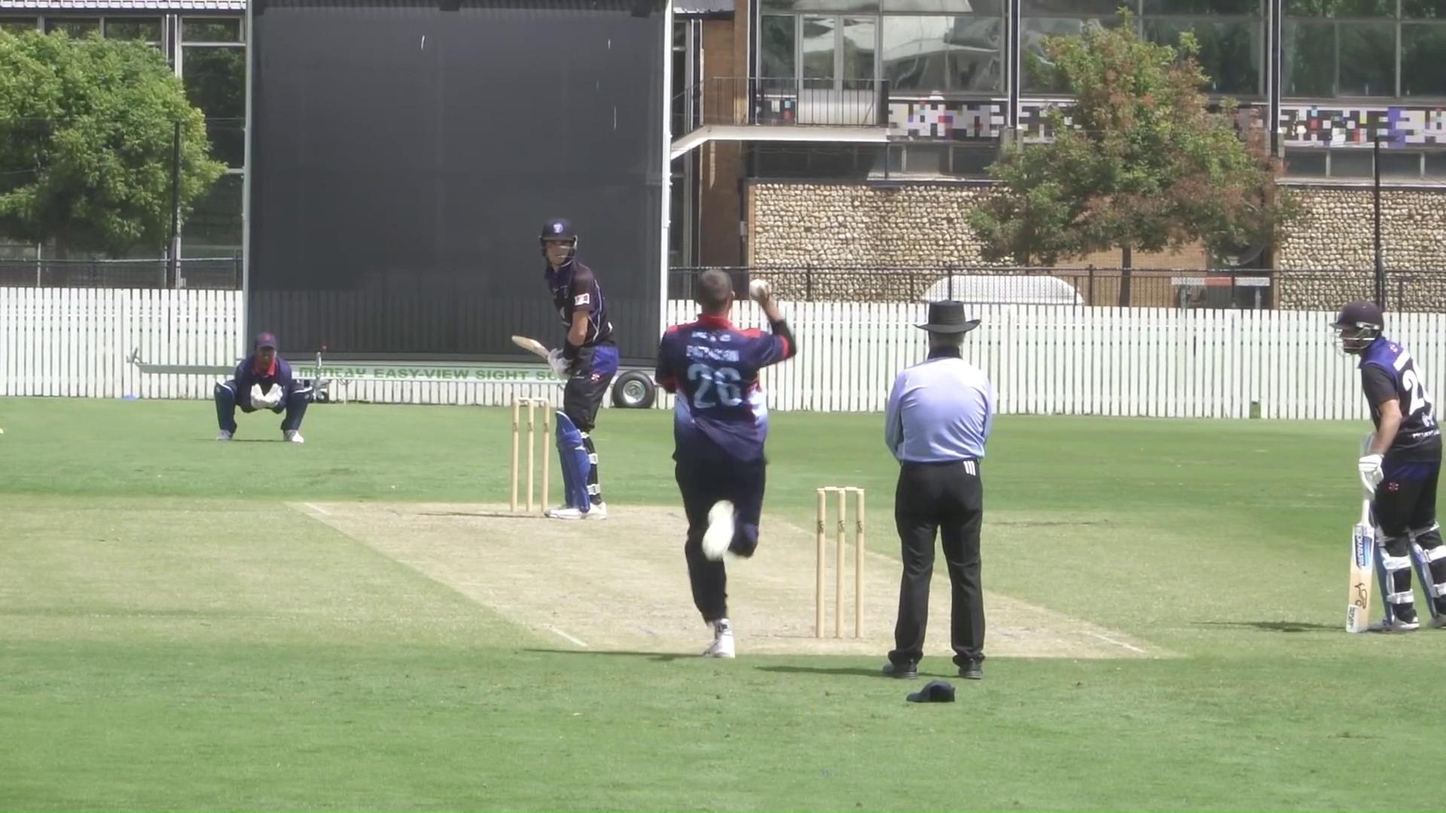ball: (747, 275, 771, 302)
